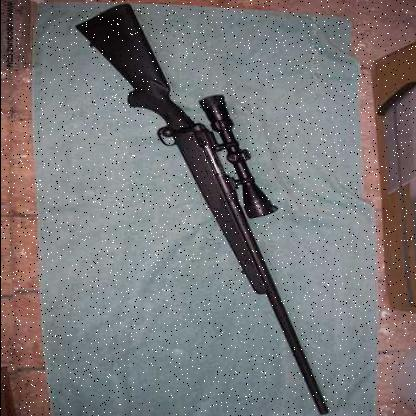rifle: (63, 0, 348, 415)
